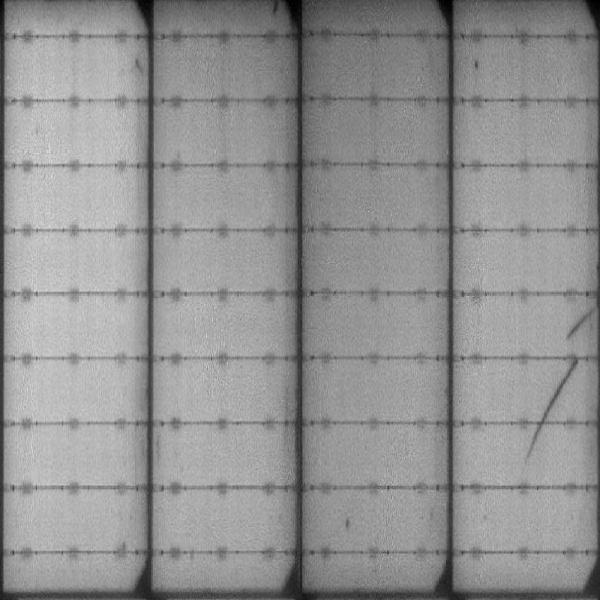scratch: (526, 363, 583, 462), (570, 308, 592, 340)
